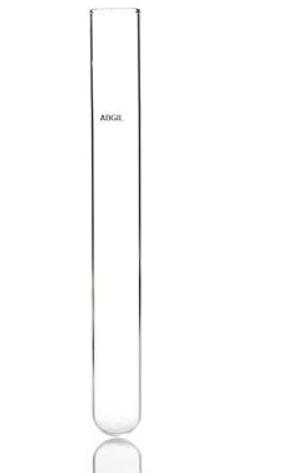Test tube: (82, 20, 148, 438)
